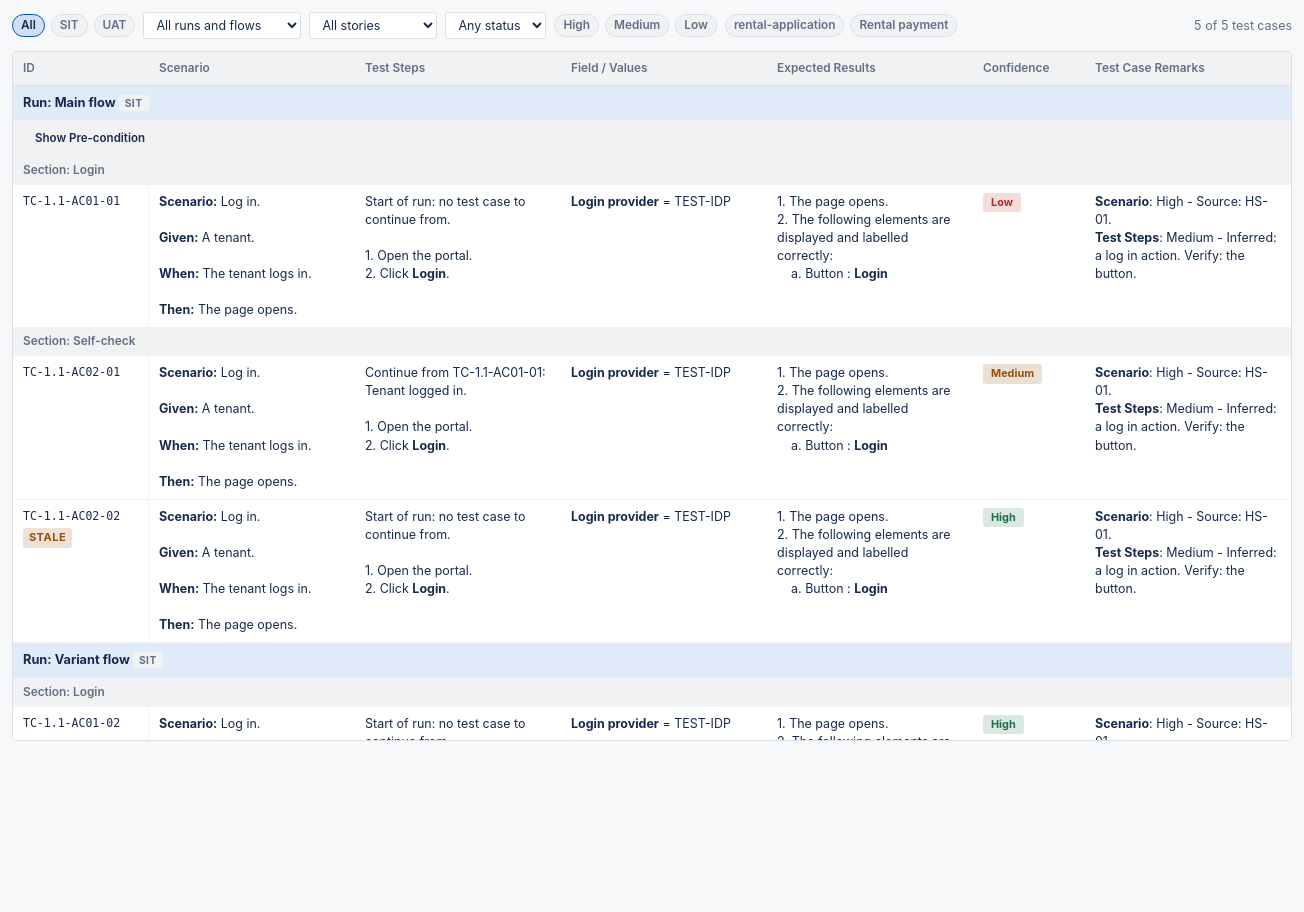
Test: TestCaseGrid › labels the chips with the PRD titles from the project state
Click the button "Rental payment": (904, 25) left=850, top=14, right=958, bottom=37
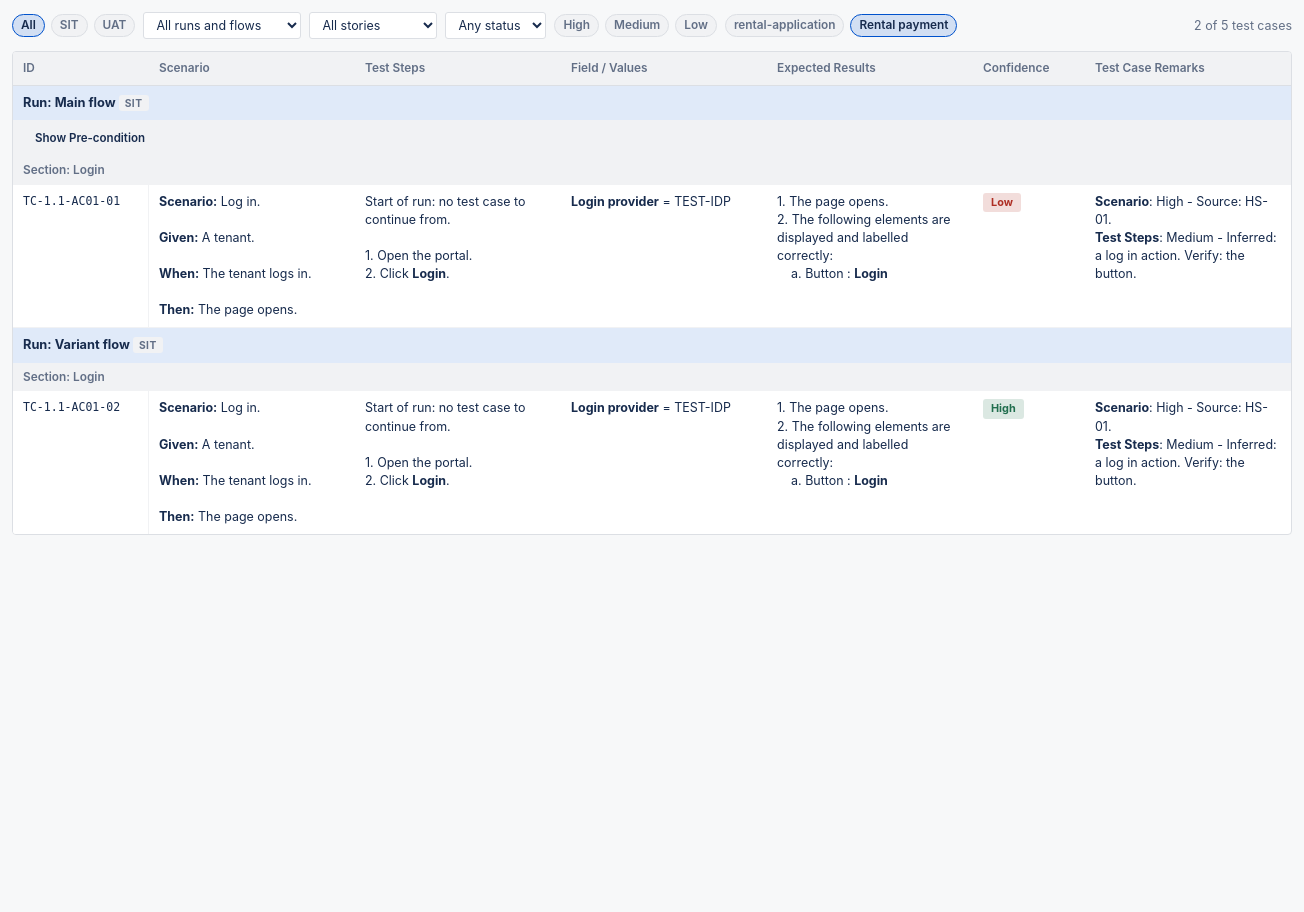
Check: the button "rental-application" is shown, box left=725, top=14, right=844, bottom=37
Check: the text "2 of 5 test cases" is shown, box left=1194, top=17, right=1292, bottom=34
